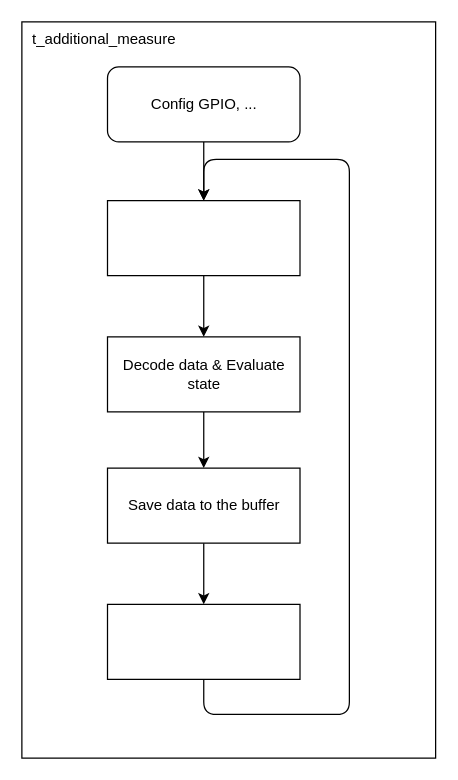
The diagram is 458 pixels wide and 780 high, and some of its shapes have lost their labels. Each missing label, with the centre of its shape:
Read data from ADC: pixel 203 237
Sleep ( n s): pixel 203 641
